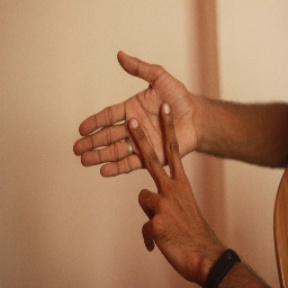N: (64, 49, 206, 232)
